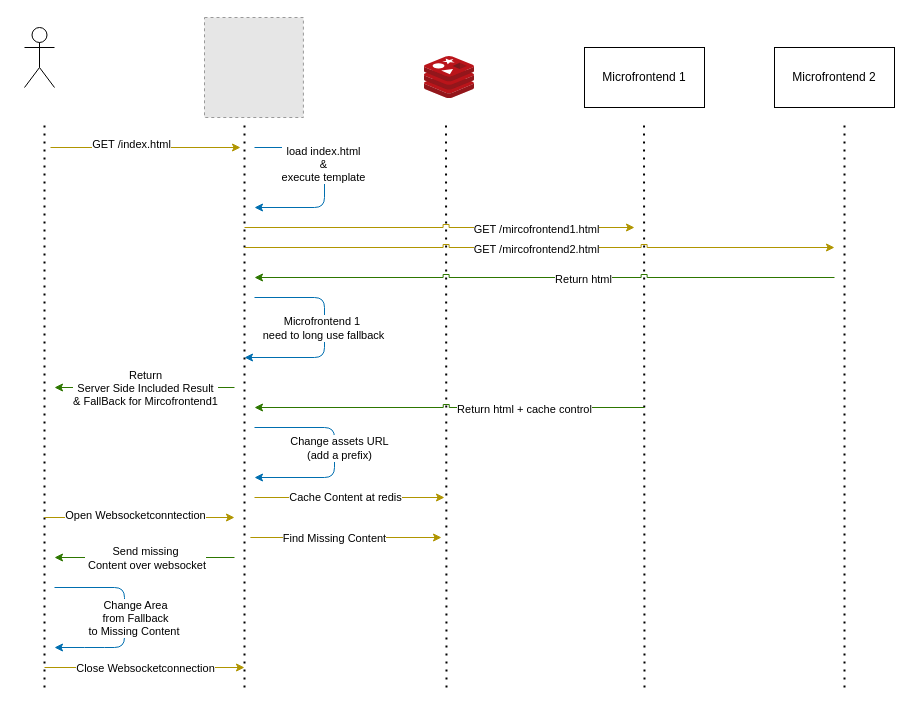
The diagram is 912 pixels wide and 707 high, and some of its shapes have lost their labels. Grey dashed boxes stand in for pictures. Each missing label, with the centre of its shape:
"Browser" goes at pixel 39 57.
"Redis Cache" goes at pixel 449 77.
